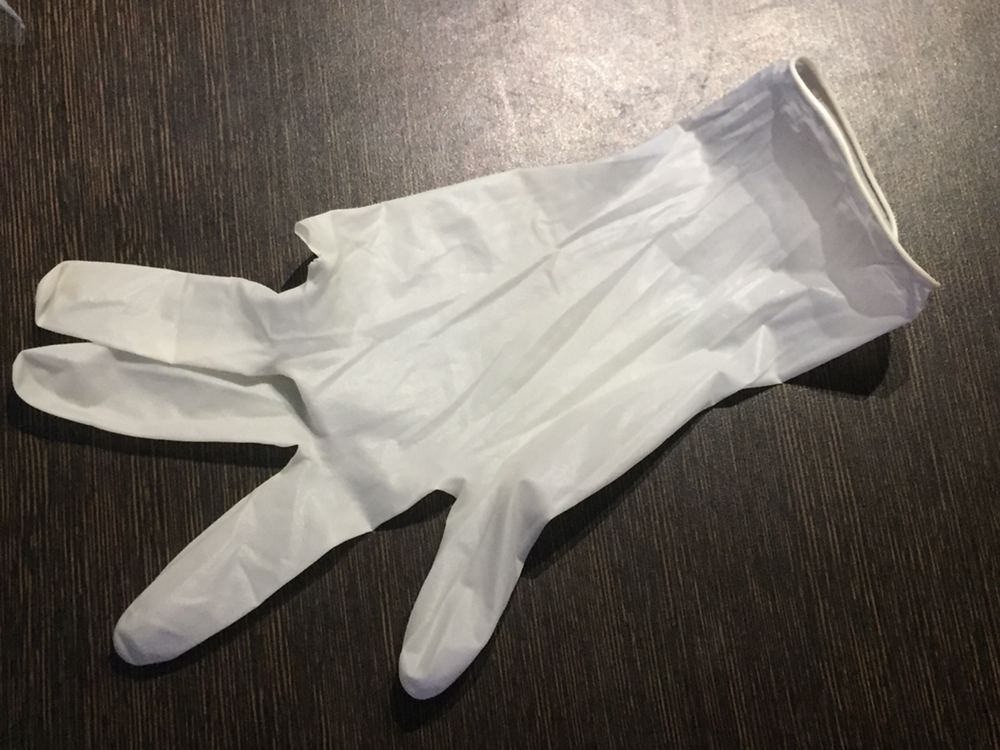defected: (41, 59, 999, 740)
